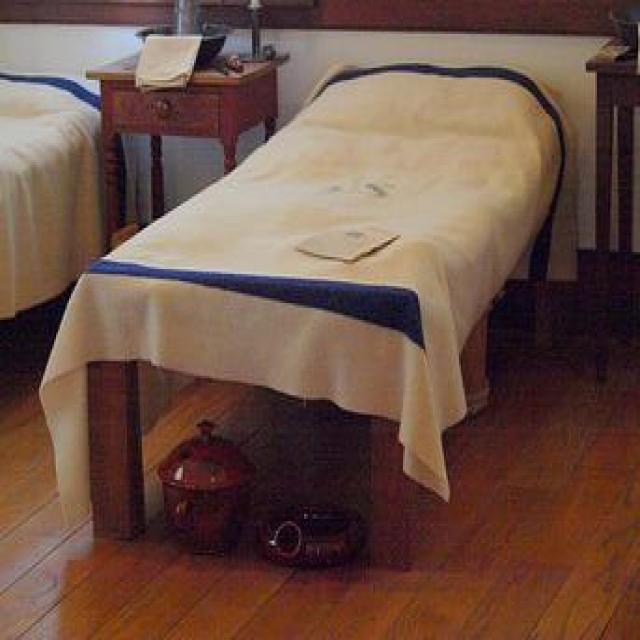bed: (37, 58, 569, 546)
